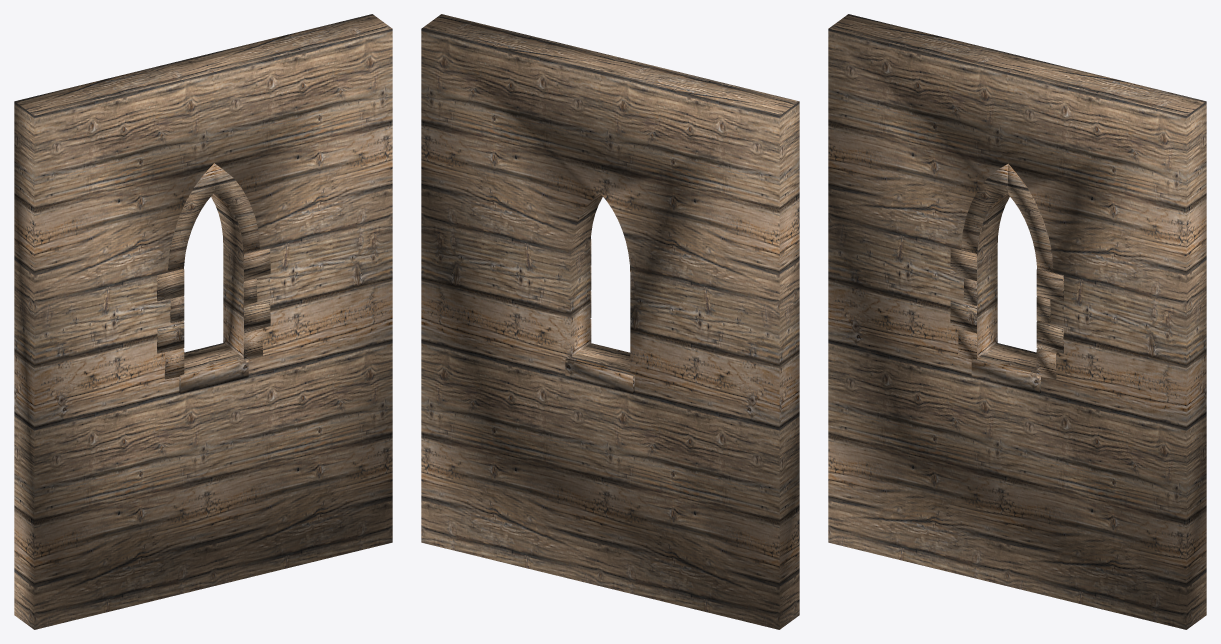
Rendered from wood window1.glb.
3 views of the same model, side by side, from view 1: azimuth 30°, elevation 25°; view 2: azimuth 150°, elevation 25°; view 3: azimuth 330°, elevation 25° (orthographic).
Visible parts, largest first — view 1: Wall, WIndow - Arch.002; view 2: Wall, WIndow - Arch.002; view 3: Wall, WIndow - Arch.002.
Boxes of the visible parts, <box> form: Wall, WIndow - Arch.002: <box>14,14,392,629</box>; Wall, WIndow - Arch.002: <box>421,14,799,629</box>; Wall, WIndow - Arch.002: <box>828,14,1206,629</box>.
Bounding box in the file's own units: 2 × 2.74 × 0.225.
2 materials, 2 textured.
